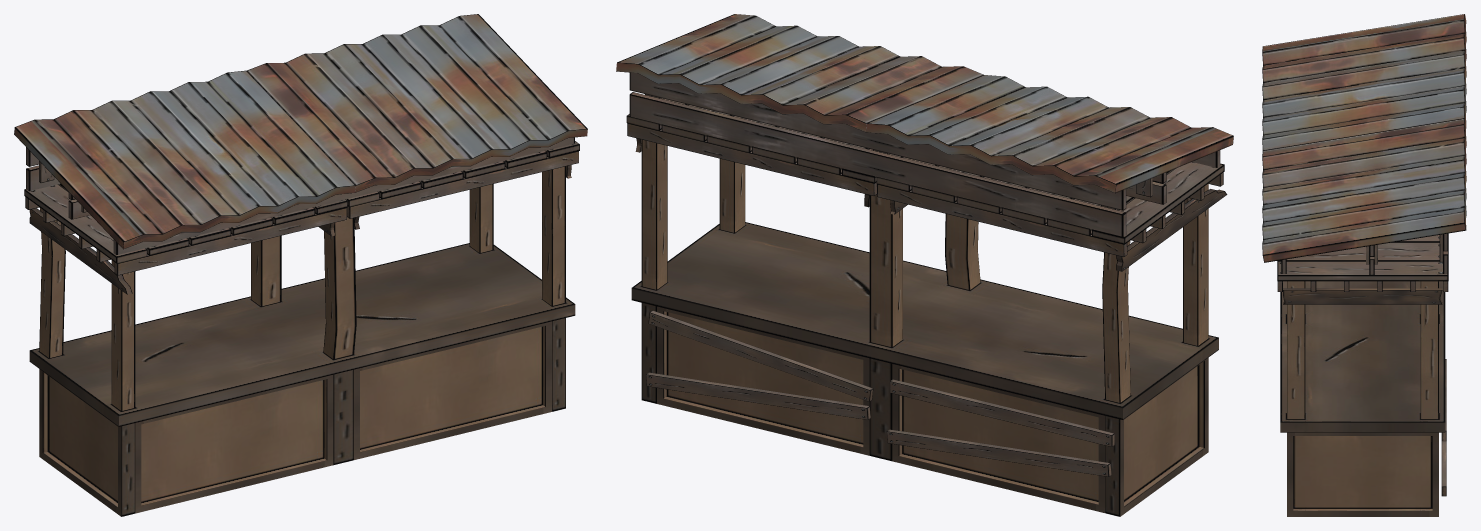
Rendered from stall_02.fbx.
3 views of the same model, side by side, from view 1: azimuth 30°, elevation 25°; view 2: azimuth 150°, elevation 25°; view 3: azimuth 270°, elevation 25° (orthographic). The views are drawn at different scales.
Parts seen in each view (by area): view 1: Stall_02; view 2: Stall_02; view 3: Stall_02.
Boxes of the visible parts, bbox=[...] form: Stall_02: bbox=[14, 14, 587, 516]; Stall_02: bbox=[616, 14, 1233, 516]; Stall_02: bbox=[1262, 14, 1466, 516].
Bounding box in the file's own units: 383 × 256 × 158.
Materials: 1 (1 with a texture image).
